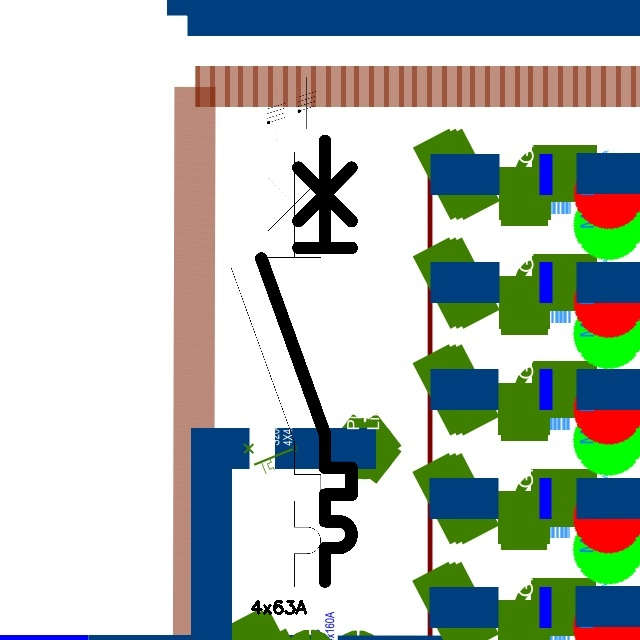interruptor_termomagnetico: (250, 129, 363, 593), (220, 140, 332, 597)
